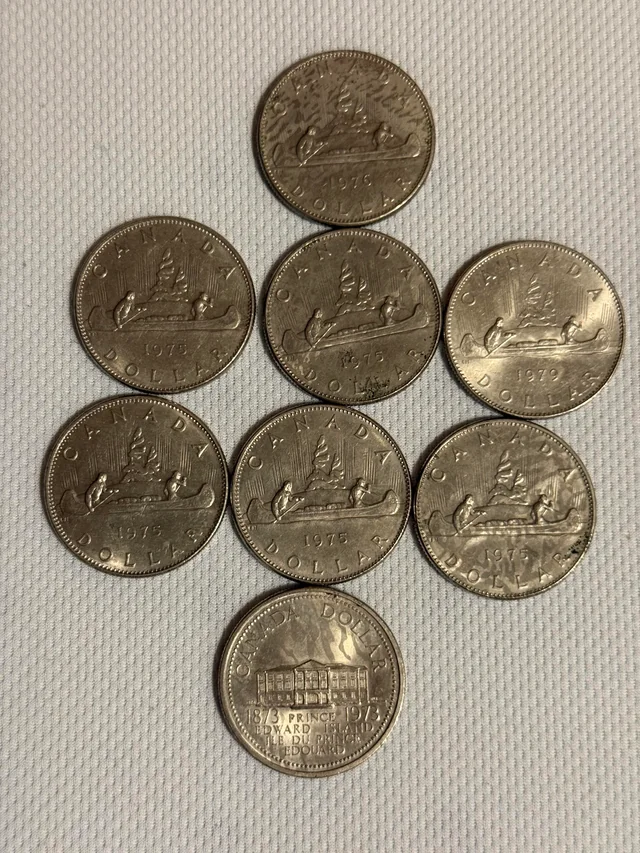coin: (219, 588, 404, 776), (44, 395, 227, 575), (415, 419, 594, 598), (231, 406, 410, 583), (74, 217, 254, 392), (445, 241, 623, 417), (265, 228, 440, 404), (257, 51, 433, 224)
